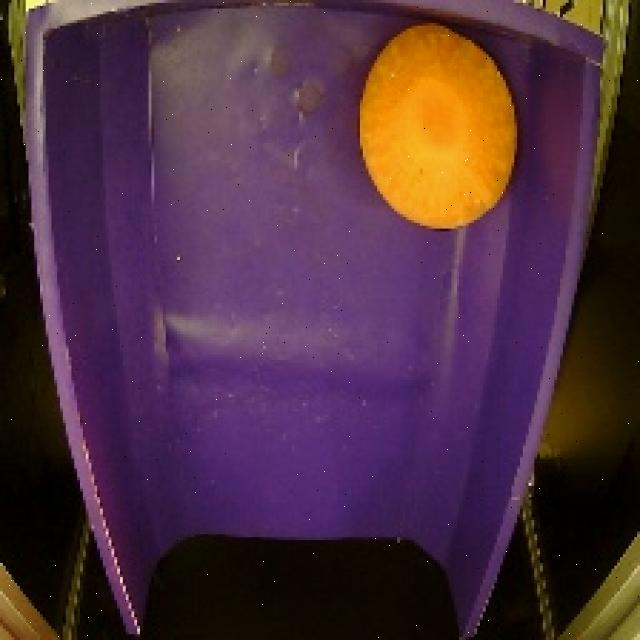carrots: (350, 15, 525, 244)
